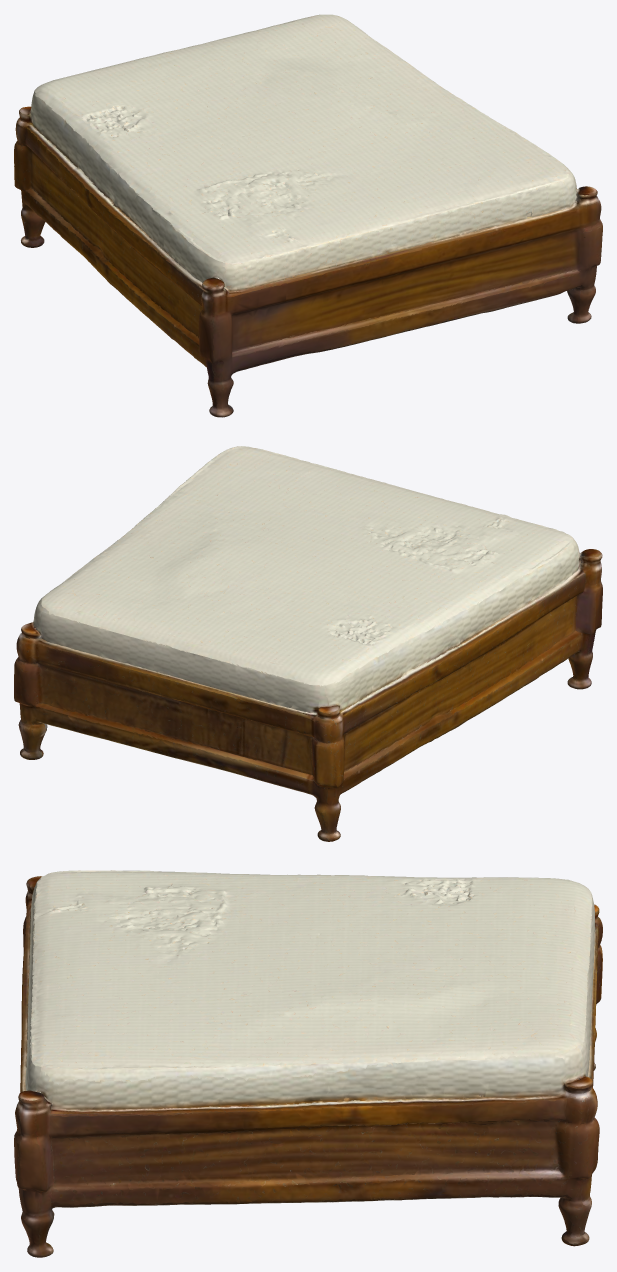
Rendered from wood-bed-2-lux3d.glb.
The picture shows the model from 3 angles, top to bottom: view 1: azimuth 30°, elevation 25°; view 2: azimuth 150°, elevation 25°; view 3: azimuth 270°, elevation 25°; orthographic projection. The views are drawn at different scales.
Parts seen in each view (by area): view 1: geometry_0; view 2: geometry_0; view 3: geometry_0.
Boxes of the visible parts, x1=… form: geometry_0: x1=14, y1=14, x2=602, y2=417; geometry_0: x1=14, y1=446, x2=602, y2=841; geometry_0: x1=14, y1=870, x2=602, y2=1257.
Size of the model in its own units: 2 by 0.8072 by 2.13.
1 material, 1 textured.
